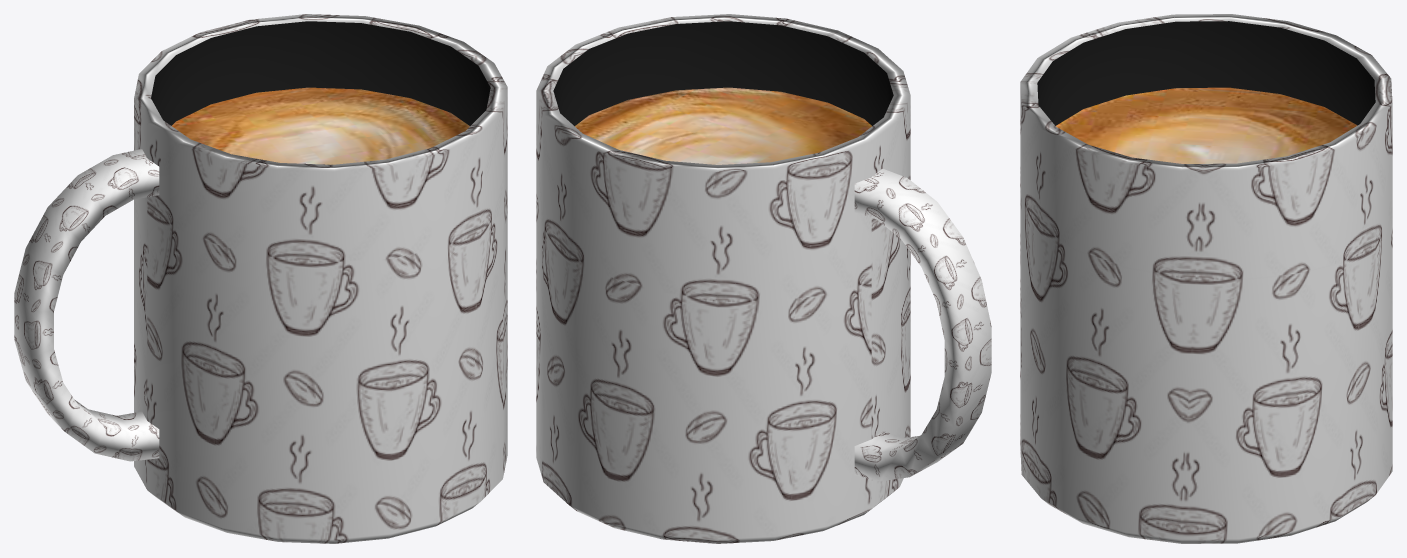
File: KTB0110023.fbx
3 renders of one model, left to right at view 1: azimuth 30°, elevation 25°; view 2: azimuth 150°, elevation 25°; view 3: azimuth 270°, elevation 25°, orthographic.
Parts seen in each view (by area): view 1: smKTB0110023; view 2: smKTB0110023; view 3: smKTB0110023.
Boxes of the visible parts, x1=… form: smKTB0110023: x1=14, y1=14, x2=507, y2=543; smKTB0110023: x1=536, y1=14, x2=991, y2=543; smKTB0110023: x1=1020, y1=14, x2=1392, y2=543.
Bounding box in the file's own units: 19.06 × 15.58 × 13.94.
1 material, 1 textured.
